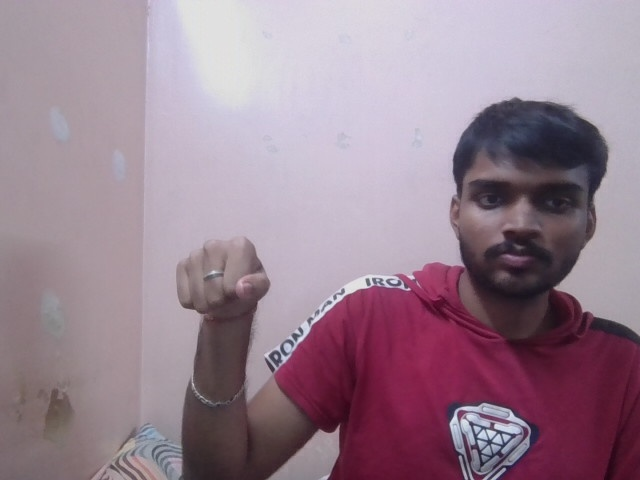Yes: (164, 232, 270, 324)
